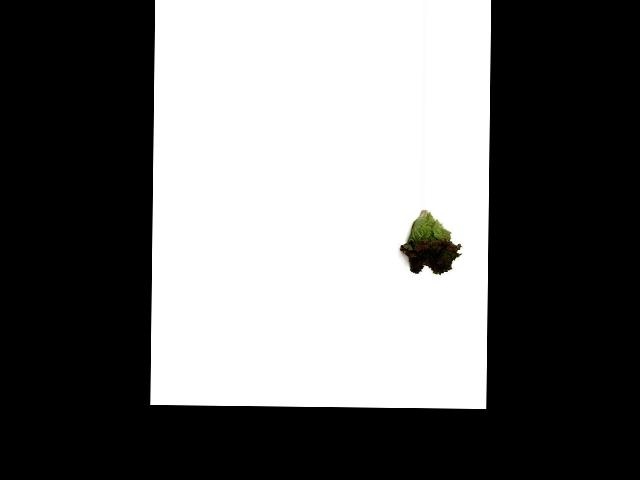lettuce: (394, 208, 464, 283)
